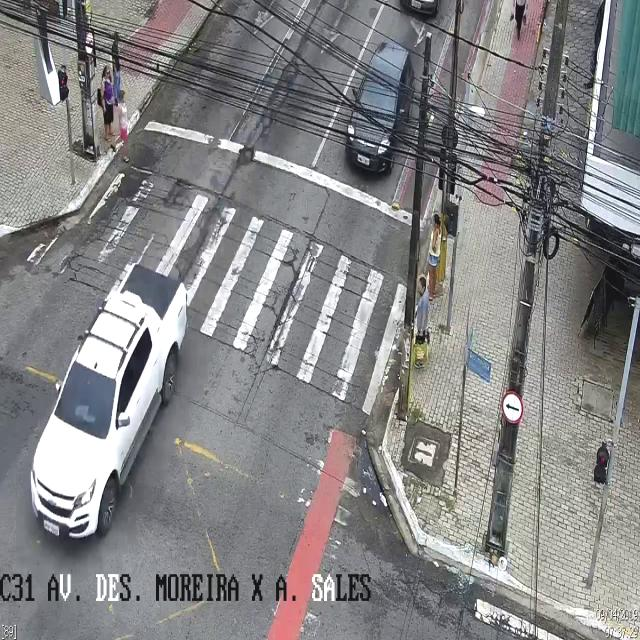Car: (31, 264, 187, 545), (346, 41, 414, 179)
